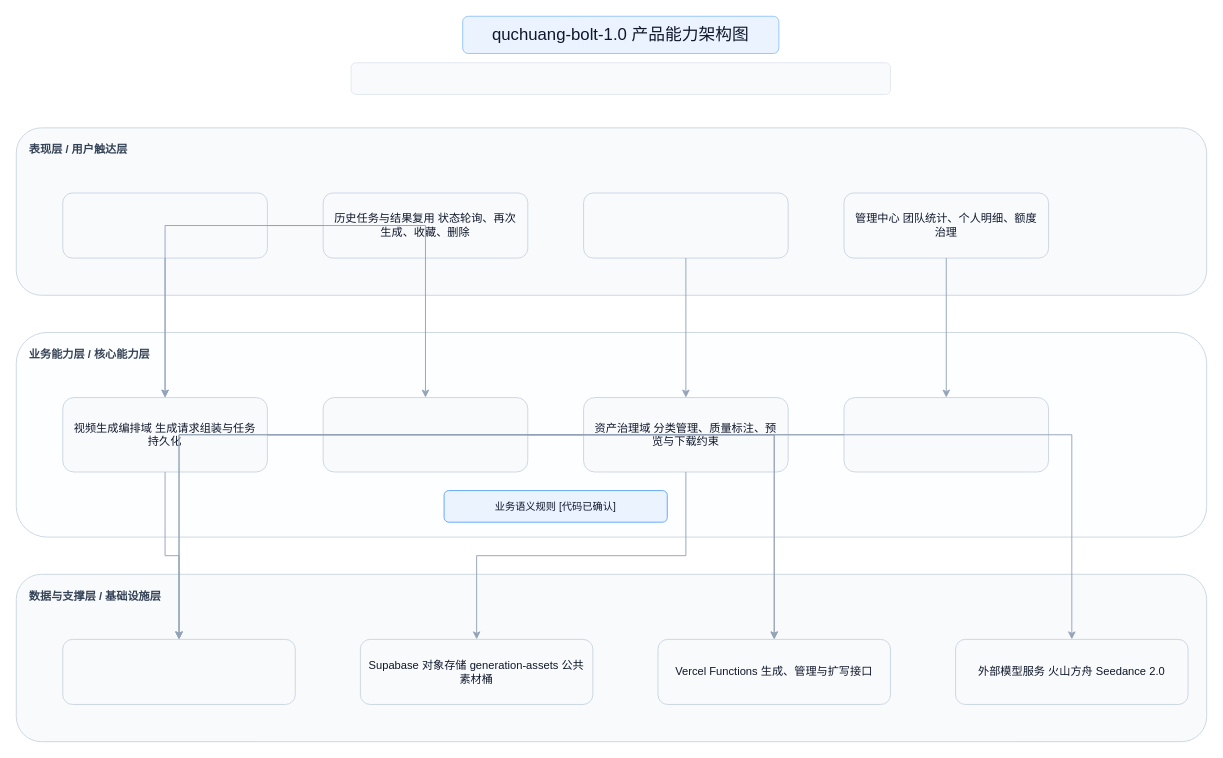
The diagram is 1223 pixels wide and 758 high, and some of its shapes have lost their labels. Each missing label, with the centre of its shape:
"Supabase 数据库 generations / model_quota_assignments" belongs at point 178,671.
"创作工作台 提示词输入、模式选择、参数配置、素材上传" belongs at point 164,225.
"提示词增强域 草稿扩写与候选应用" belongs at point 425,434.
"资产中心 创作资产、参考素材、IP 老师资产" belongs at point 685,225.
"运营治理域 团队统计、额度配置、权限治理骨架" belongs at point 946,434.
"面向内部运营团队的独立式 AIGC 视频创作、资产沉淀与资源治理平台" belongs at point 620,78.
